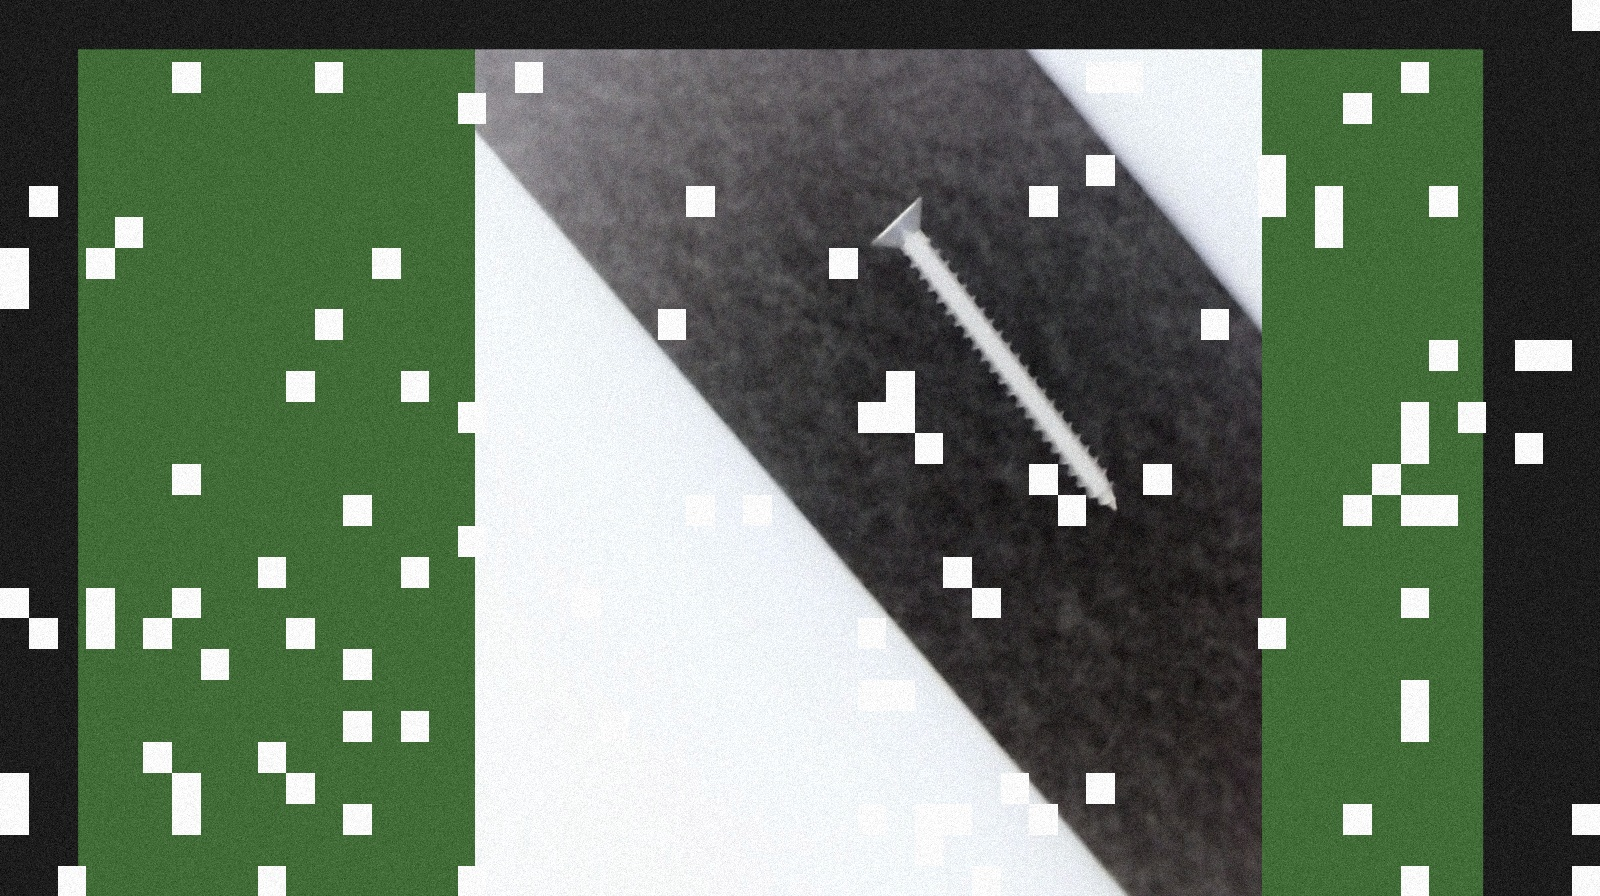S002: (862, 180, 1140, 528)
